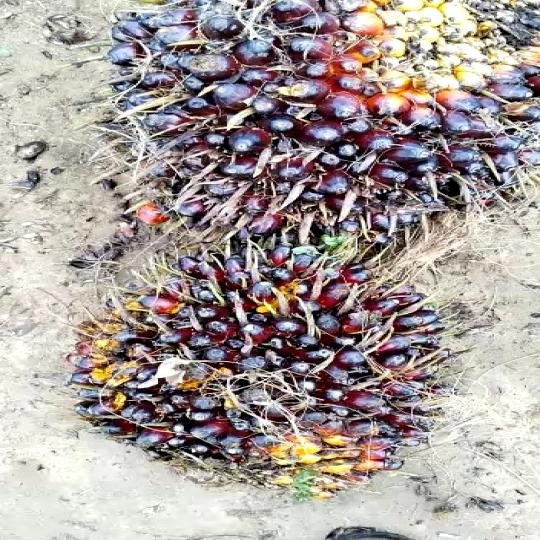kurang masak: (76, 0, 538, 263), (66, 238, 455, 495)
